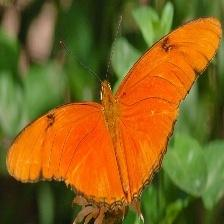butterfly: (7, 18, 222, 206)
